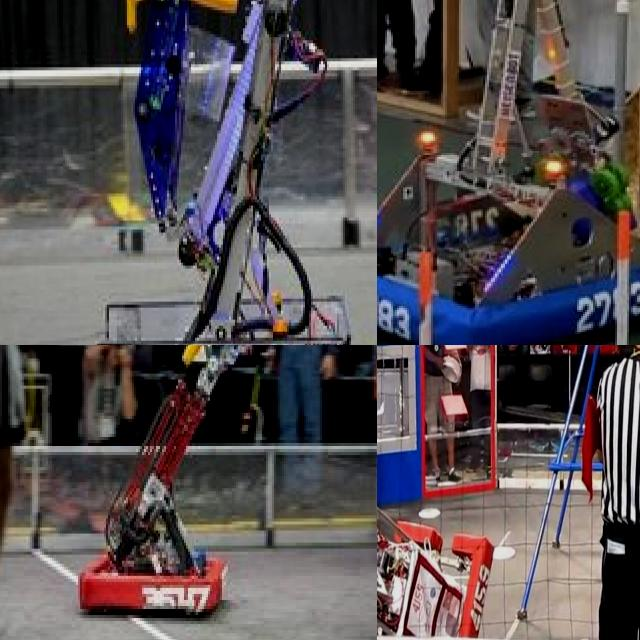FRC-Robots: (65, 0, 377, 345), (377, 0, 640, 343), (78, 345, 249, 640), (377, 427, 498, 640)
